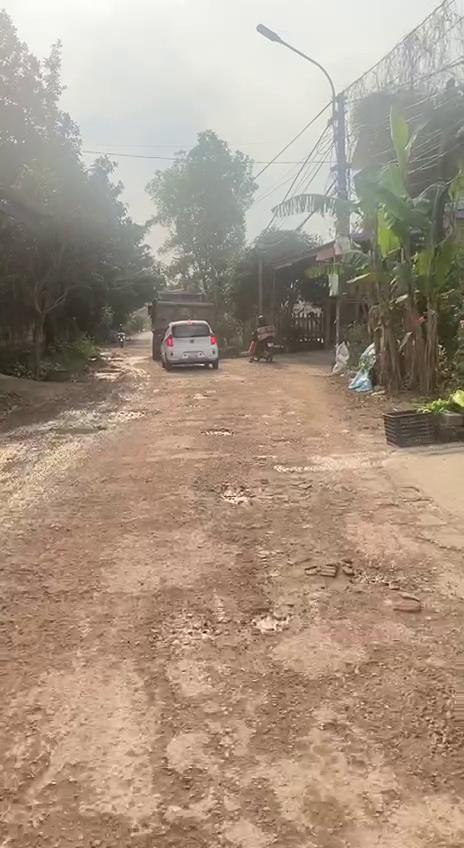pothole: (154, 604, 298, 652), (219, 482, 255, 509), (203, 426, 235, 438)
